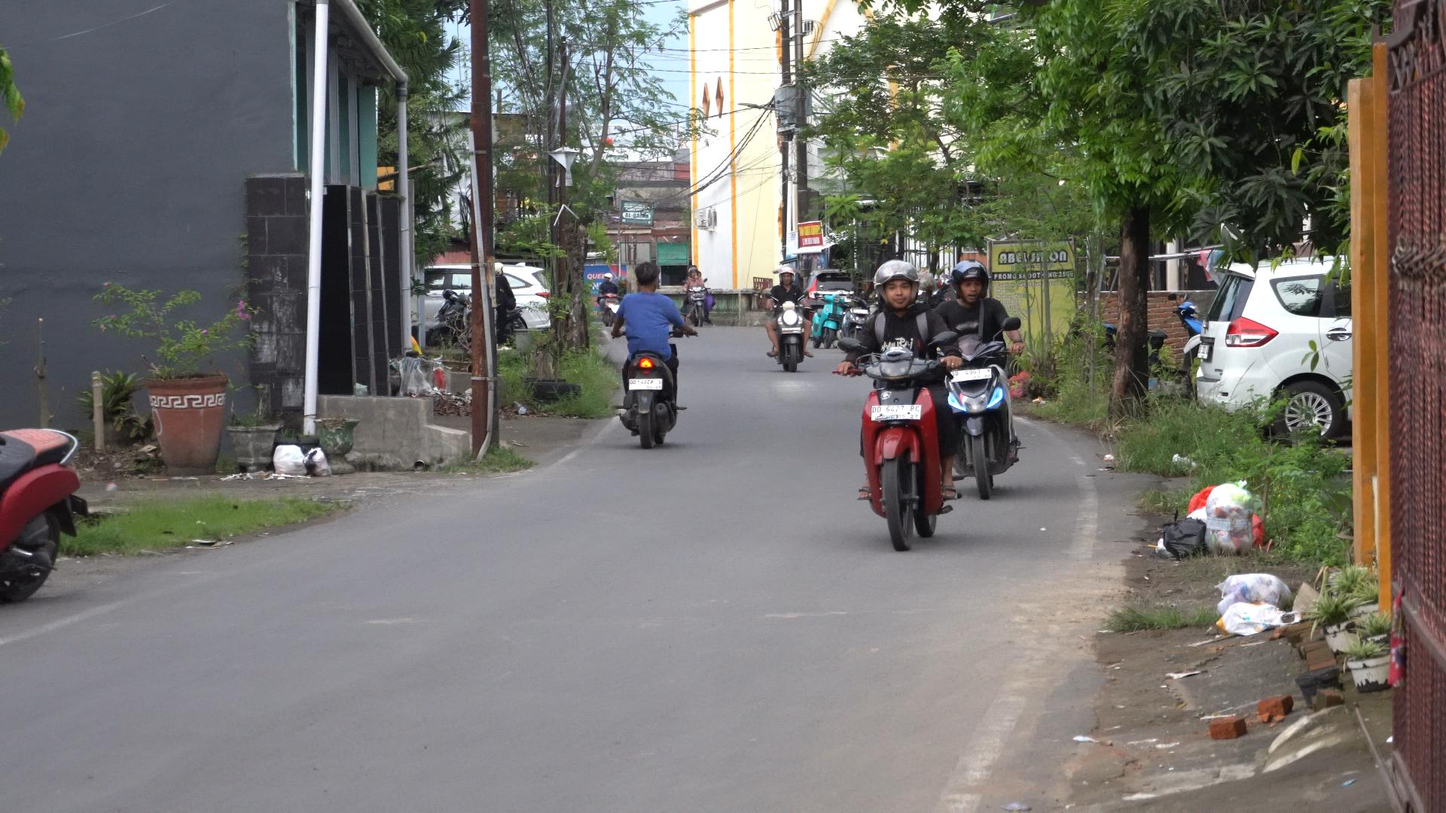number-plate: (871, 405, 921, 421)
